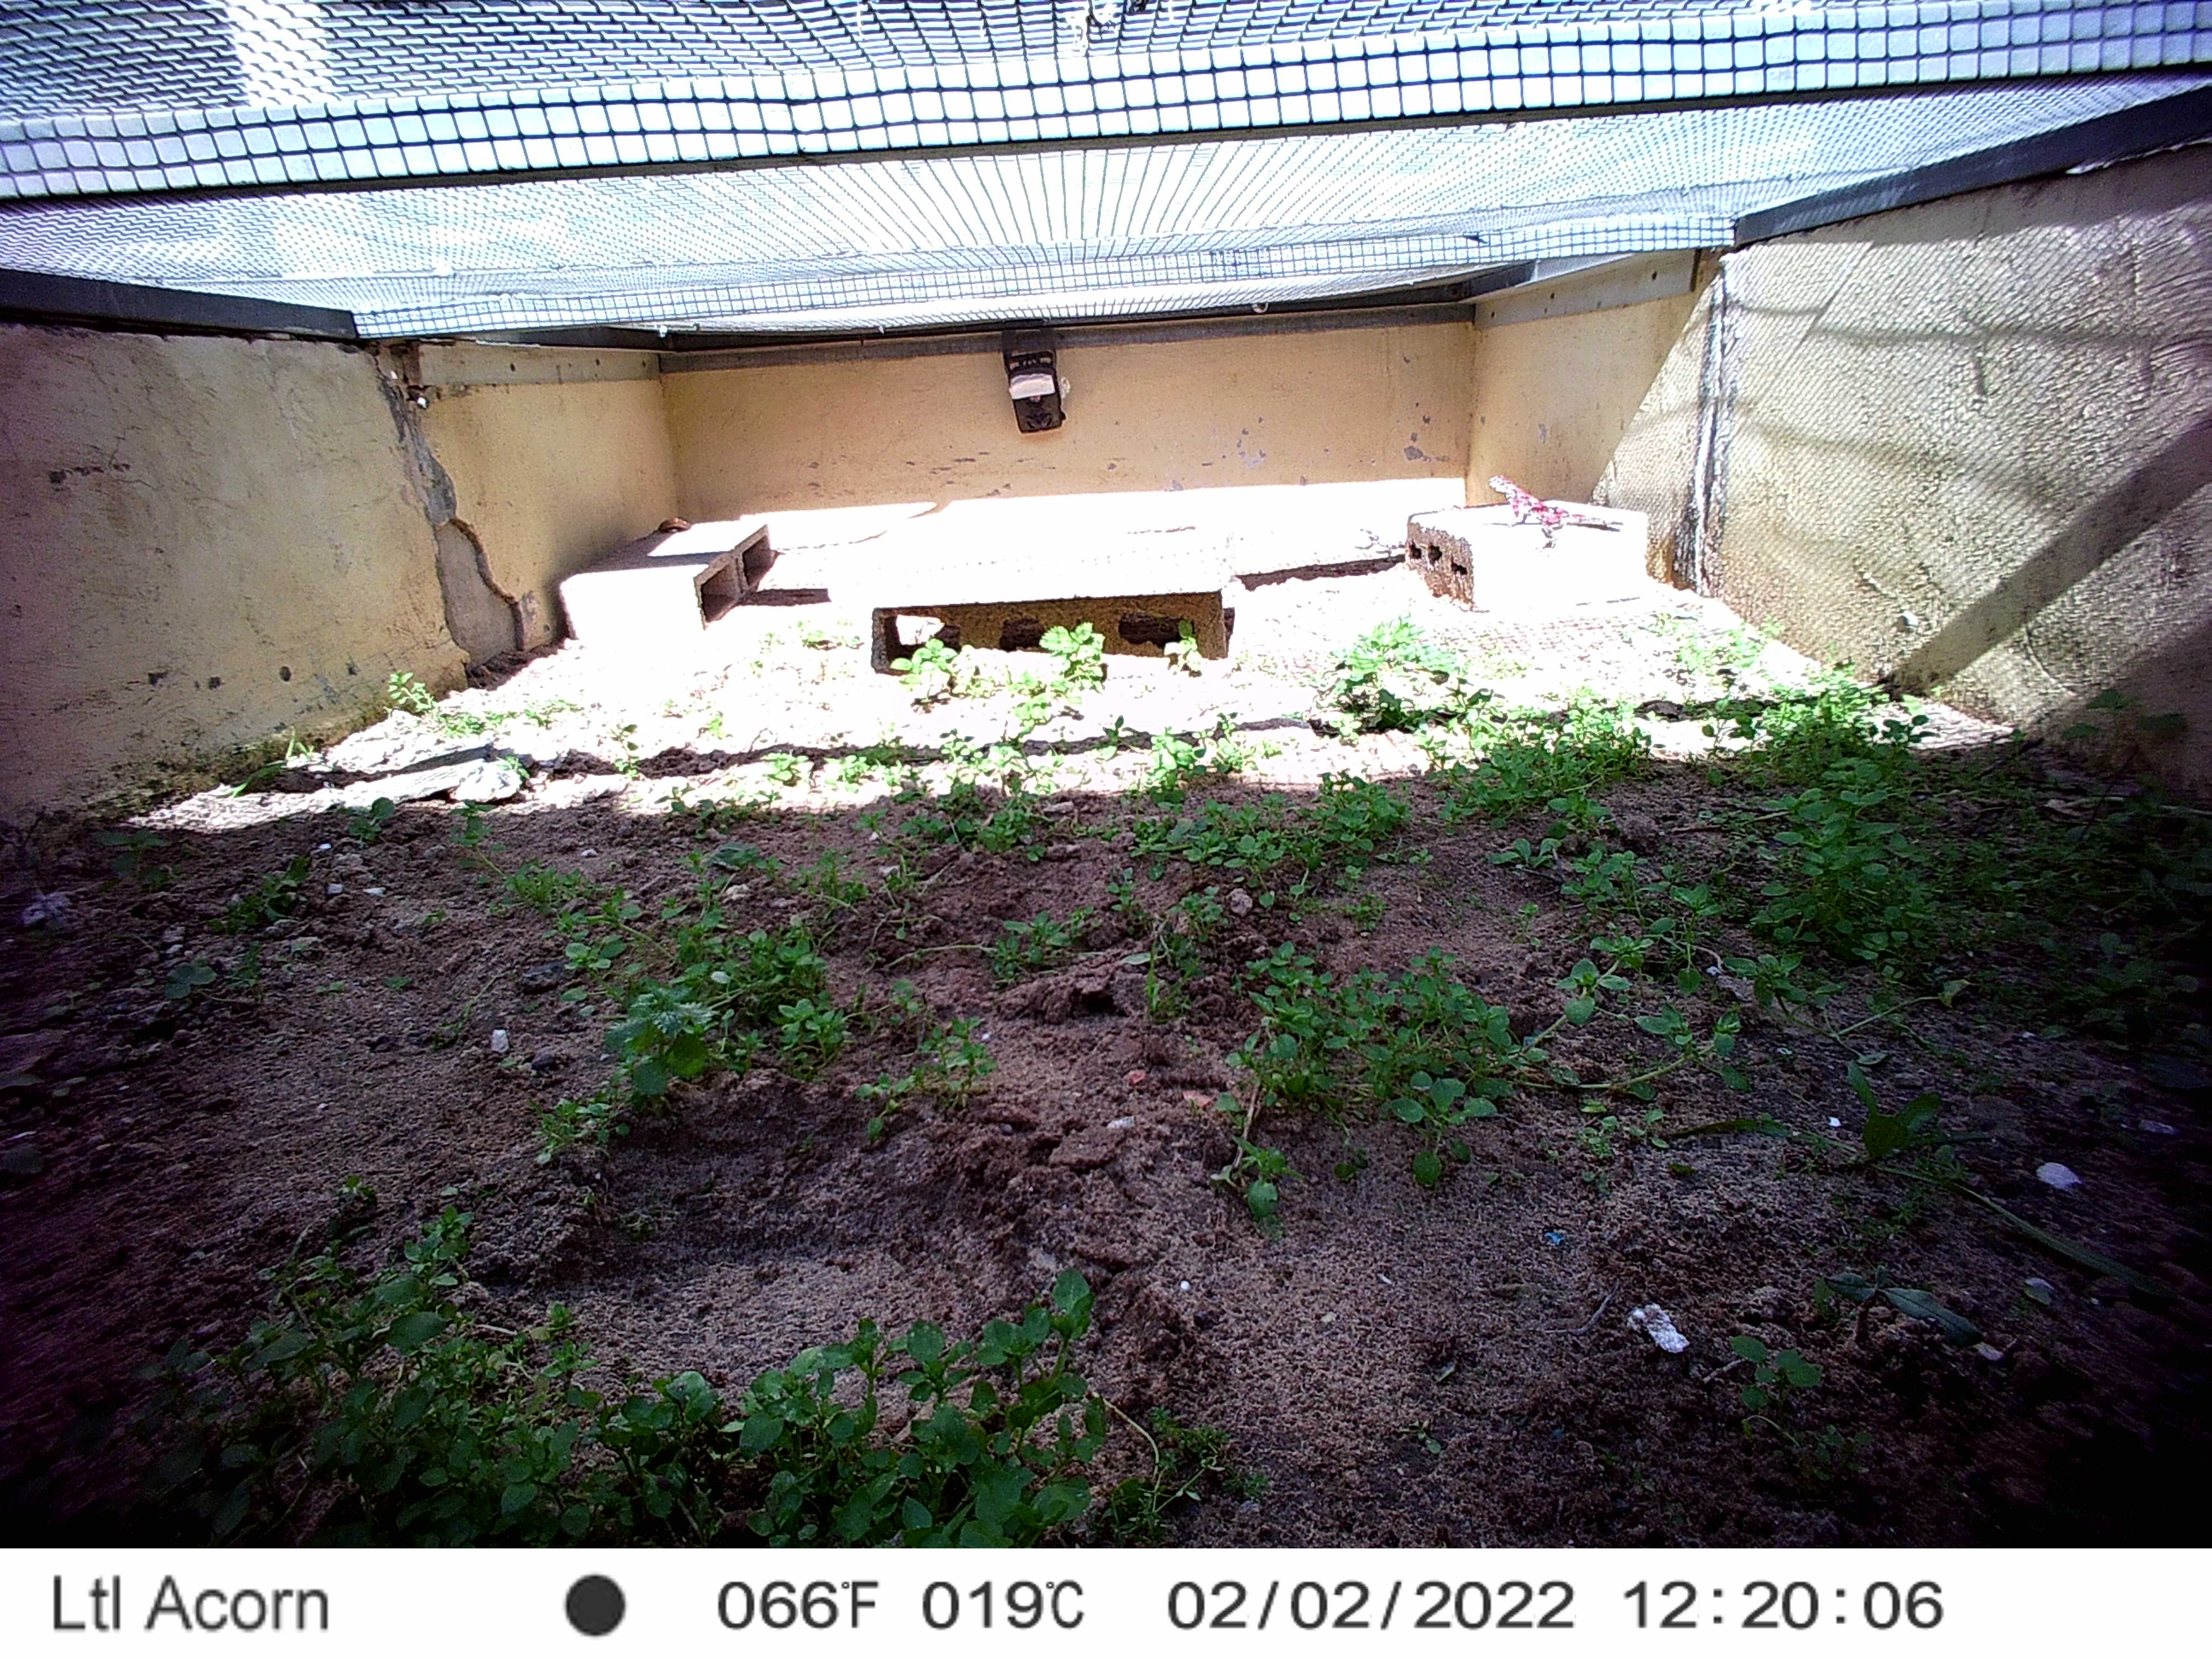lizard: (1487, 472, 1632, 552)
